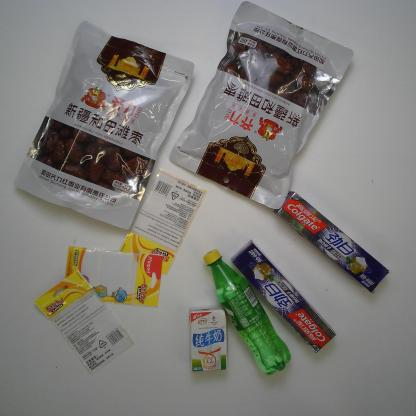Dried Food: (168, 1, 355, 213), (13, 18, 196, 232)
Drink: (200, 247, 292, 378)
Milk: (189, 308, 229, 373)
Personal Hygiene: (230, 238, 338, 355), (272, 189, 390, 295)
Stationery: (33, 268, 135, 376), (118, 165, 209, 278), (64, 244, 166, 309)
